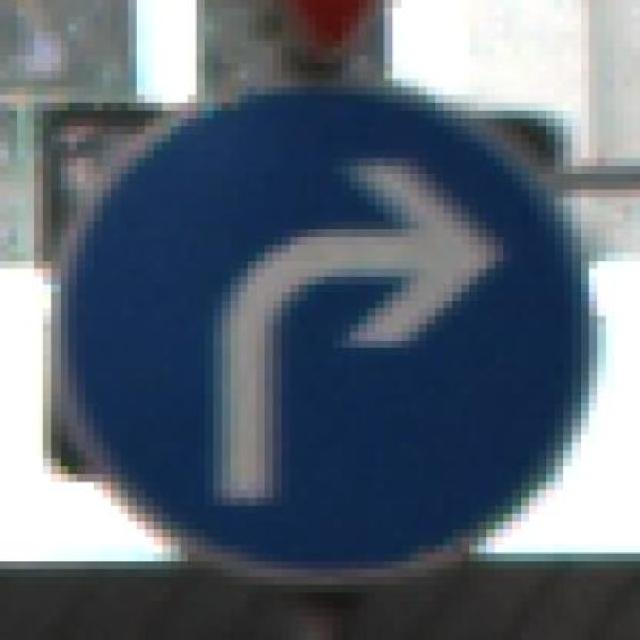Turn right ahead: (34, 63, 606, 600)
